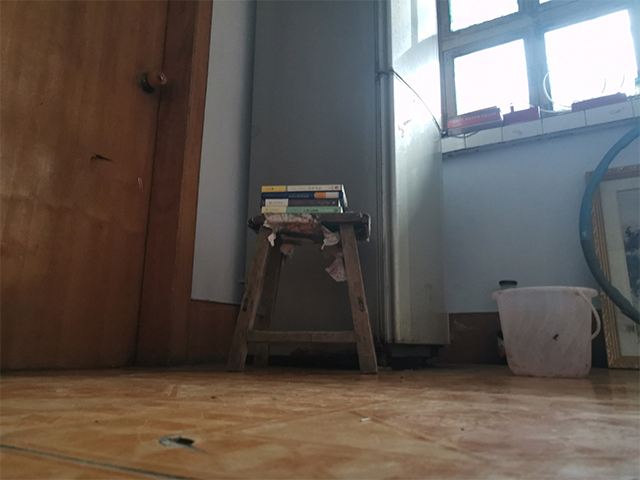stool: (222, 206, 390, 376)
trashcan: (488, 277, 601, 380)
